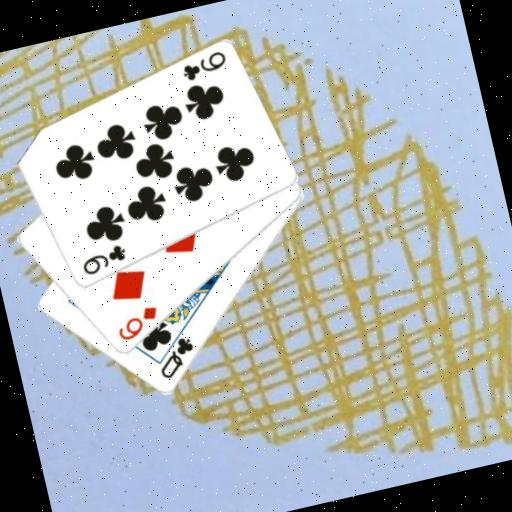6D: (111, 302, 164, 345)
9C: (76, 241, 132, 280), (176, 47, 231, 85)
QC: (150, 332, 201, 382)
